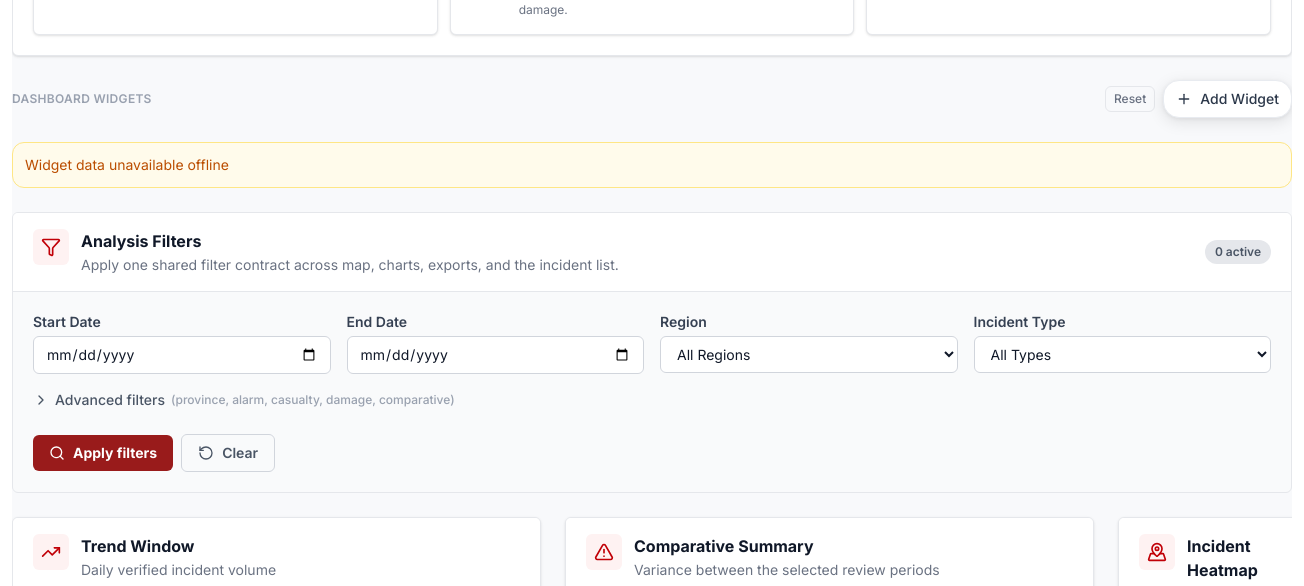
Scenario: Analyst dashboard — AQ-13: Cross-region comparison view › renders cross-region comparison when data is available
(page scrolled)
Note: Select a region to trigger compare-regions
Select "NCR (NCR)" in the dropdown labelled "Region" at (809, 354), box [660,336,958,373]
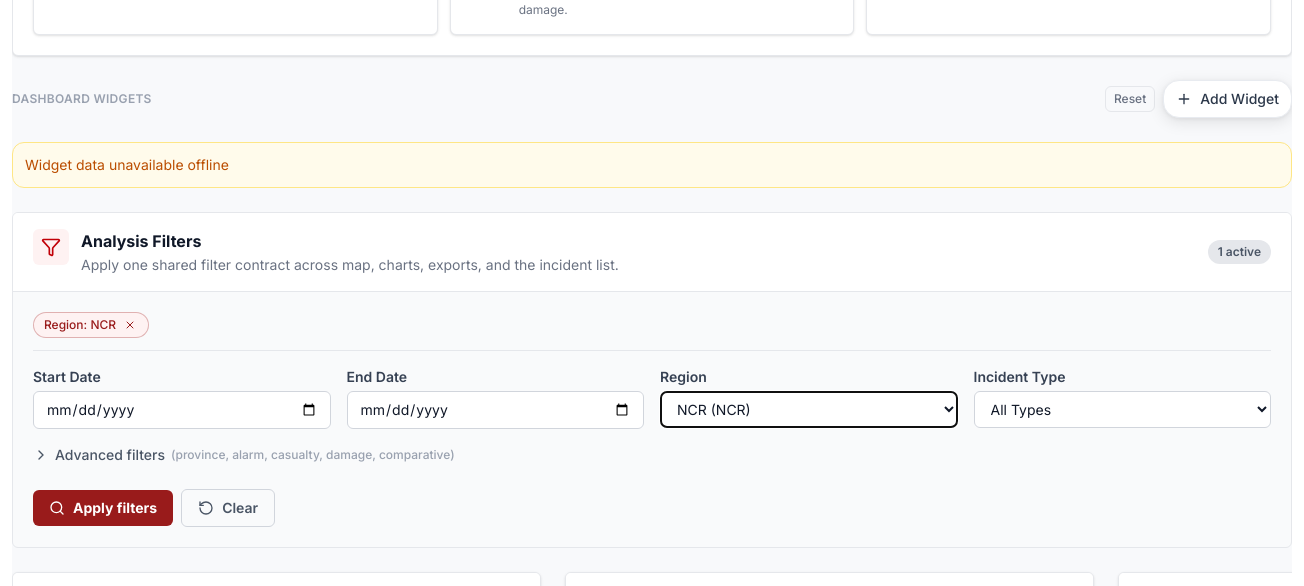
Click the button "Apply filters" at (103, 508), box [33,490,173,526]
(page scrolled)
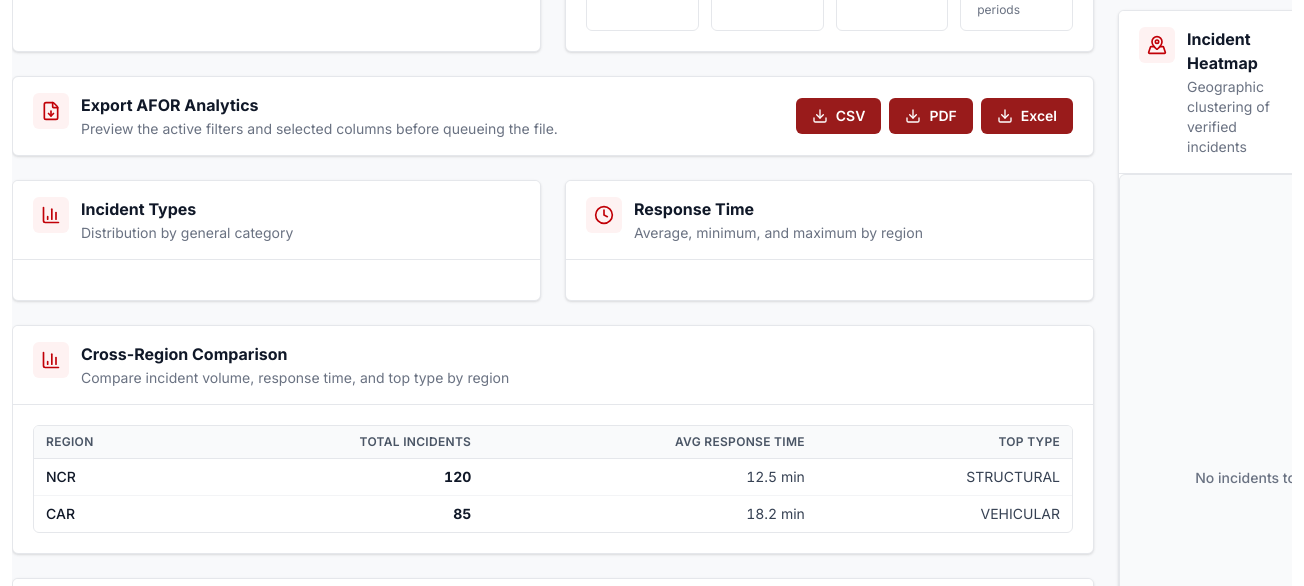
Now the heading "Cross-Region Comparison" is shown, box [81,342,288,366]
